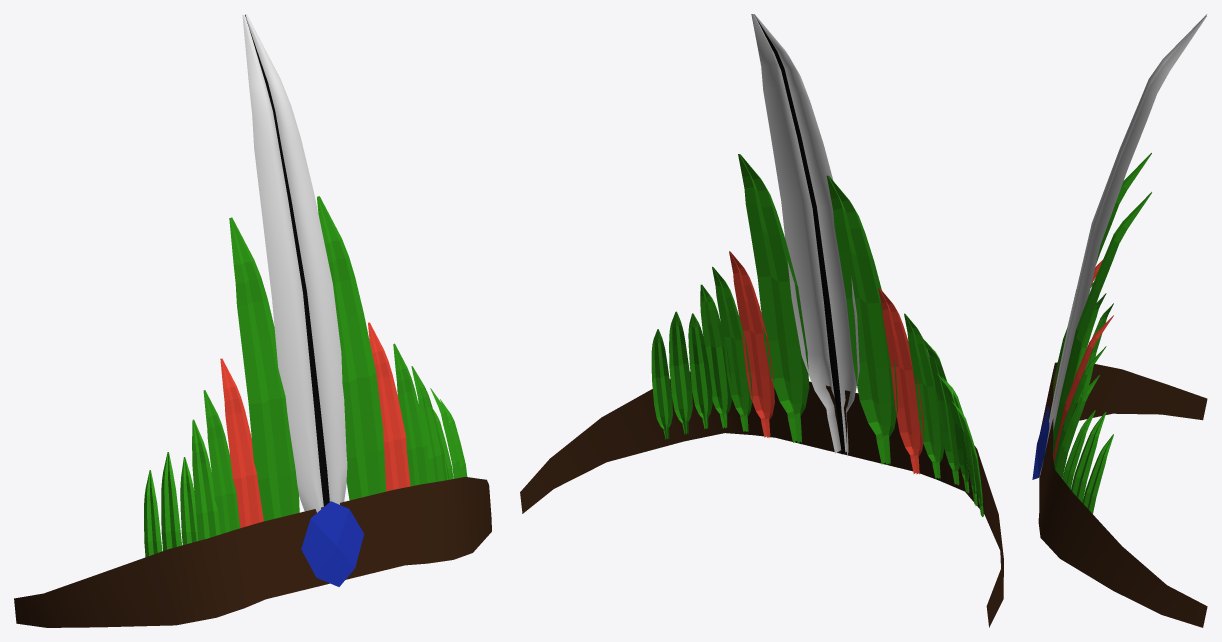
File: crown-toggi.fbx
3 views of the same model, side by side, from view 1: azimuth 30°, elevation 25°; view 2: azimuth 150°, elevation 25°; view 3: azimuth 270°, elevation 25° (orthographic). The views are drawn at different scales.
Visible parts, largest first — view 1: Plane; view 2: Plane; view 3: Plane.
Part boxes in pixels (bbox=[...]): Plane: bbox=[14, 14, 491, 627]; Plane: bbox=[520, 14, 1003, 627]; Plane: bbox=[1032, 14, 1207, 627].
Bounding box in the file's own units: 80.36 × 91.87 × 28.64.
